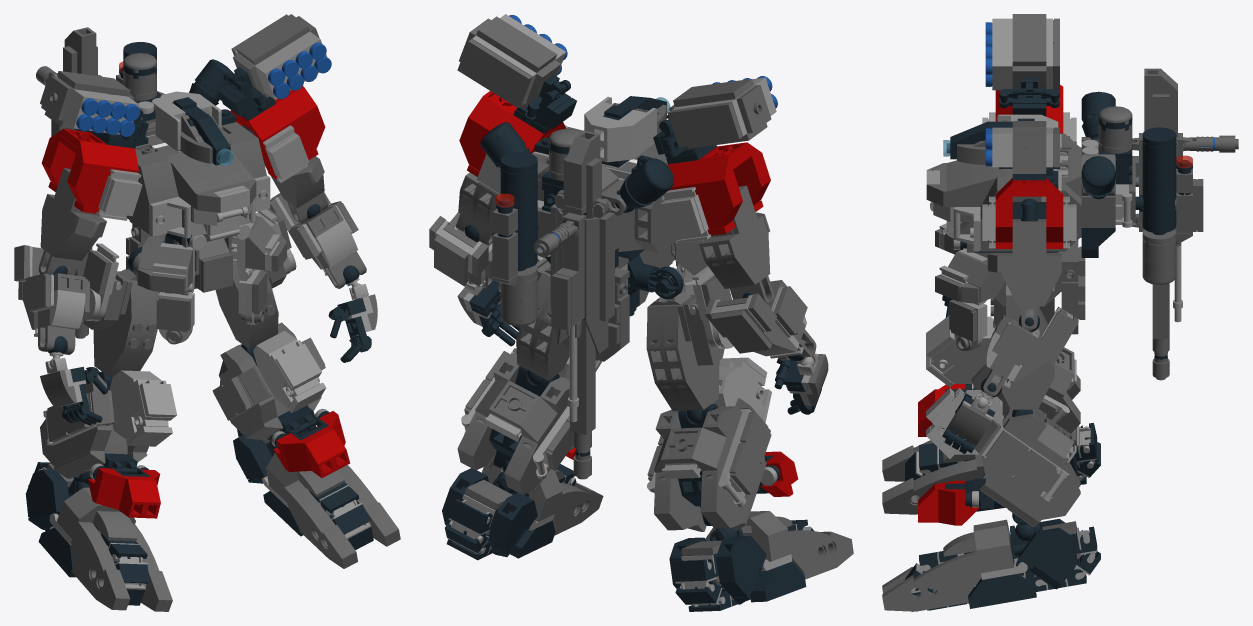
The model's file is hacs-02hg-mps-grizzly.dae.
The picture shows the model from 3 angles, left to right: view 1: azimuth 30°, elevation 25°; view 2: azimuth 150°, elevation 25°; view 3: azimuth 270°, elevation 25°; orthographic projection. The views are drawn at different scales.
Bounding box in the file's own units: 443 × 422 × 637.
